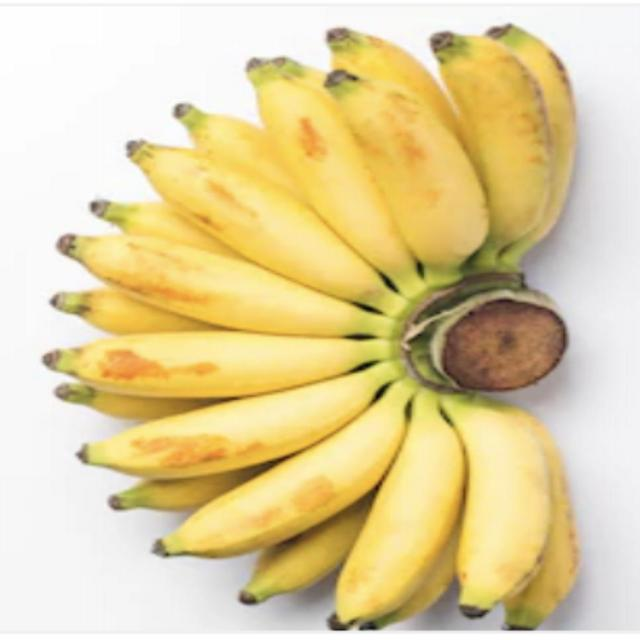banana: (192, 20, 441, 302), (1, 213, 405, 378), (148, 390, 448, 605), (97, 109, 395, 308), (91, 368, 388, 517), (40, 329, 398, 424), (338, 378, 475, 624), (440, 378, 527, 616)
